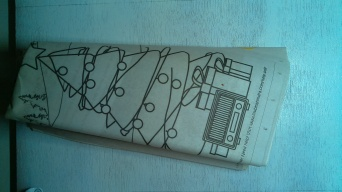p: (13, 35, 284, 178)
